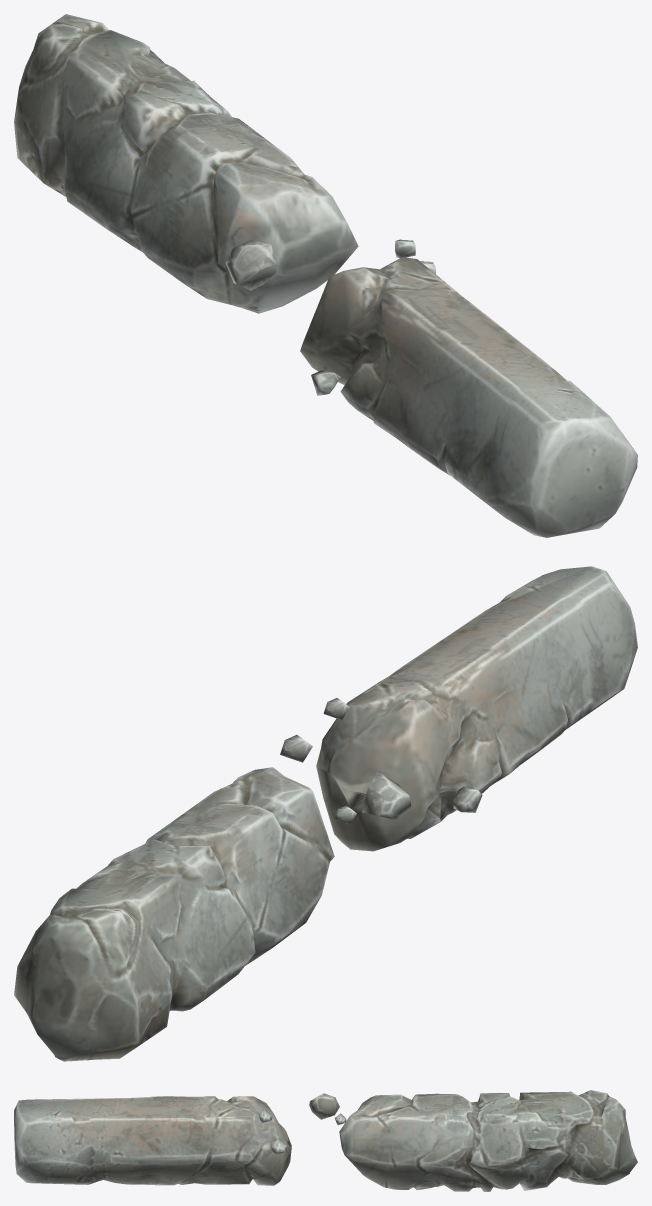
File: VD_Basalt_Single_B.fbx
3 views of the same model, one above another, from view 1: azimuth 30°, elevation 25°; view 2: azimuth 150°, elevation 25°; view 3: azimuth 270°, elevation 25° (orthographic). The views are drawn at different scales.
Parts seen in each view (by area): view 1: VD_Basalt_Single_B; view 2: VD_Basalt_Single_B; view 3: VD_Basalt_Single_B.
Boxes of the visible parts, x1,y1,x2,y2 form: VD_Basalt_Single_B: (14, 14, 637, 537); VD_Basalt_Single_B: (14, 566, 637, 1061); VD_Basalt_Single_B: (14, 1090, 637, 1191).
Size of the model in its own units: 117 by 101 by 663.
